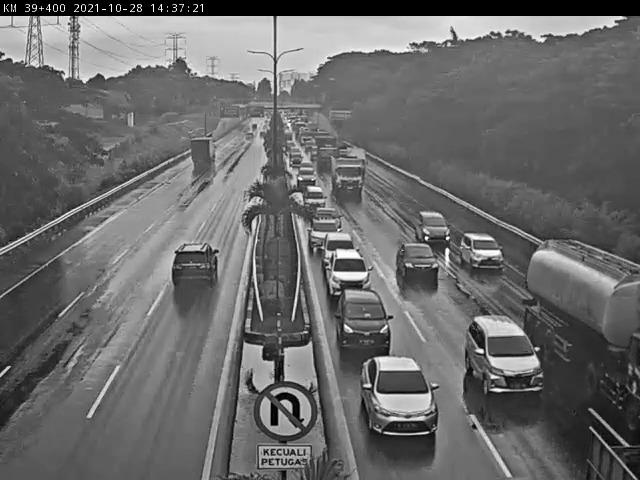big truck: (525, 240, 640, 430), (328, 151, 365, 194)
car: (360, 353, 443, 439), (467, 312, 546, 400), (334, 291, 394, 354), (324, 247, 377, 299), (170, 242, 223, 286), (396, 242, 441, 288), (457, 231, 507, 270), (412, 210, 454, 244), (304, 216, 342, 252), (320, 231, 358, 261), (315, 205, 344, 229), (303, 186, 329, 211), (296, 166, 316, 186)
small truck: (189, 136, 220, 166)
